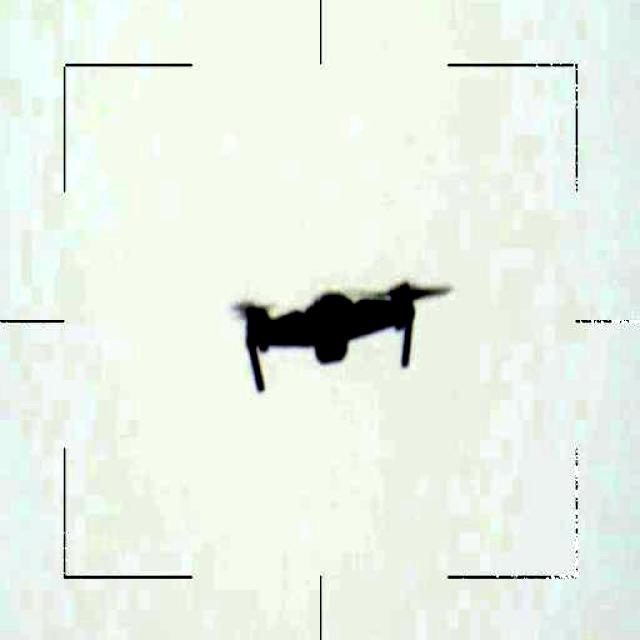bird: (204, 266, 455, 399)
